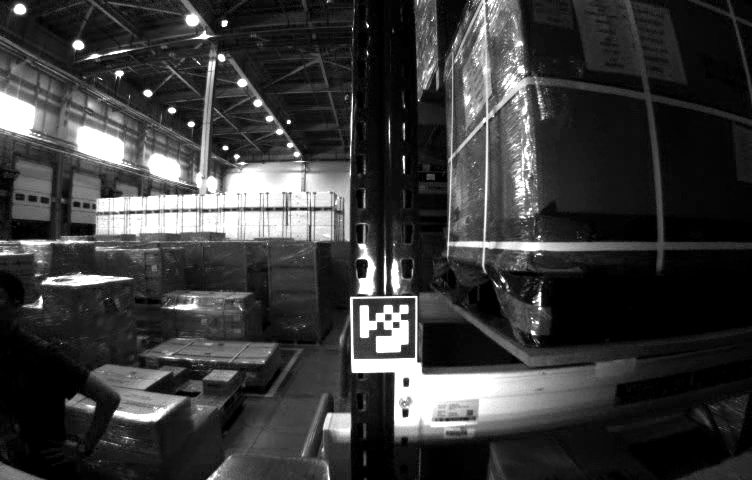True Barcode: (534, 1, 569, 26)
